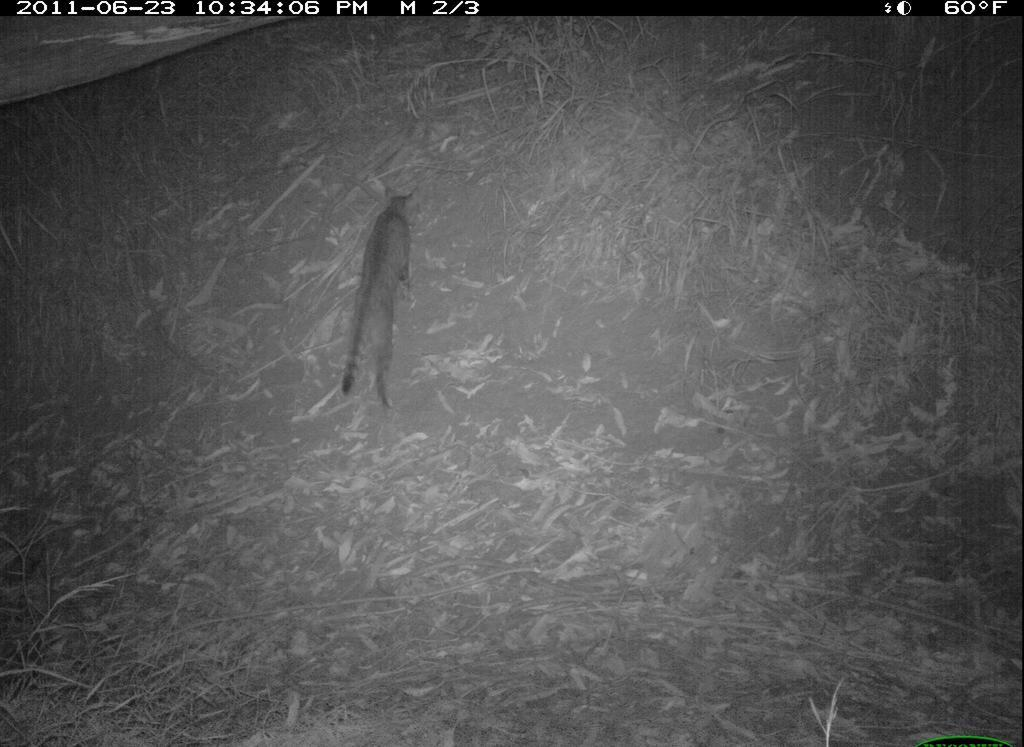cat: (324, 180, 432, 415)
